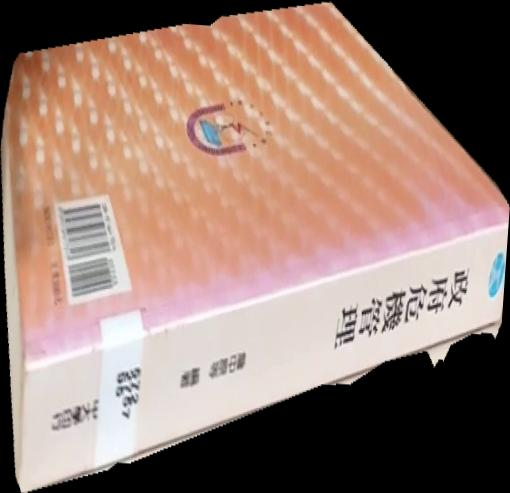flat: (1, 1, 510, 493)
